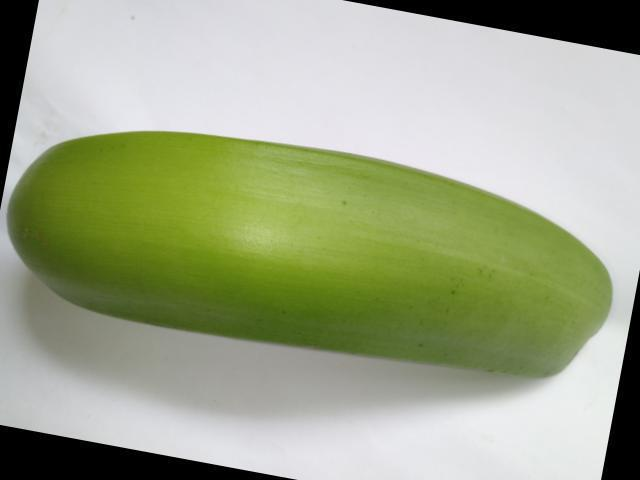freshunripe: (7, 118, 639, 394)
